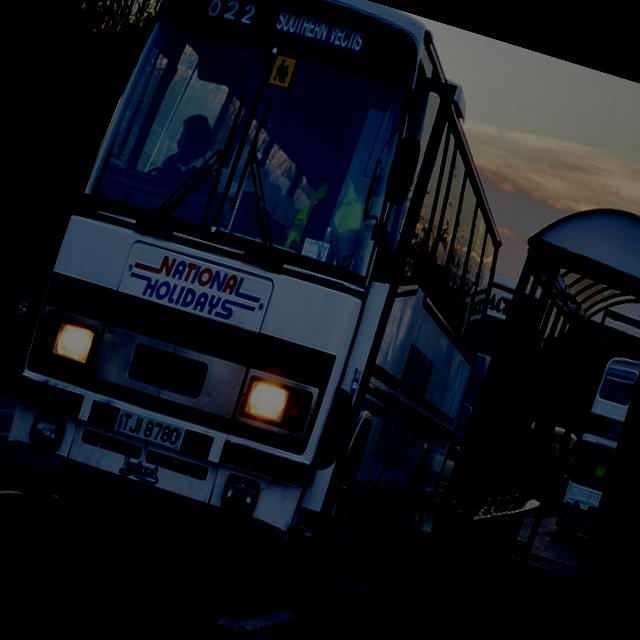Vehicle: (0, 0, 567, 624), (550, 350, 640, 544), (444, 282, 538, 456)
